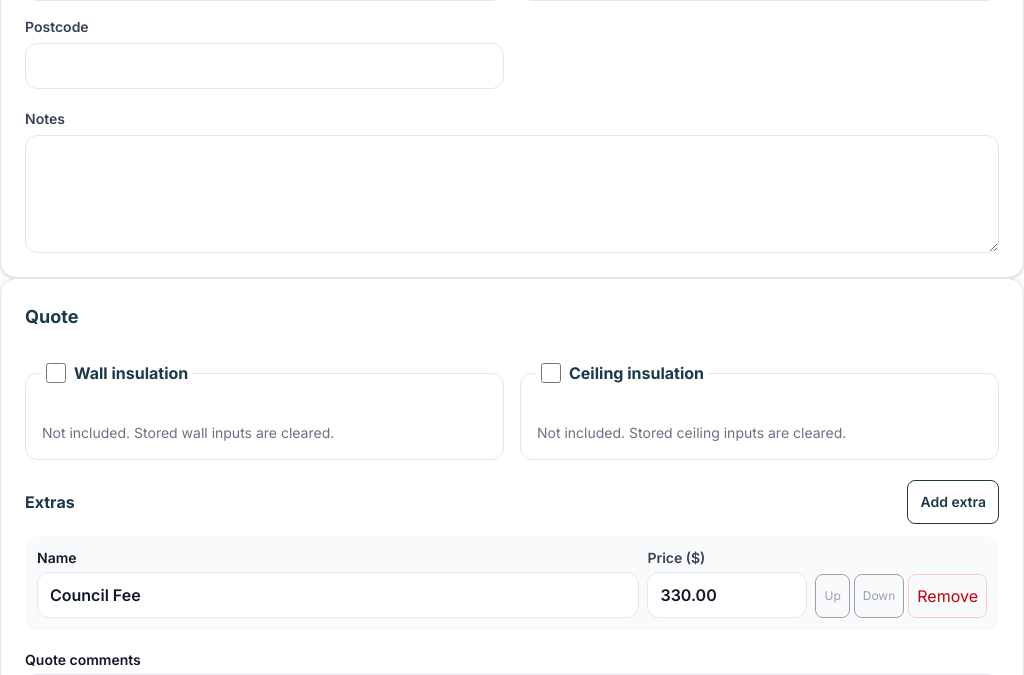
partner draft browser recovery › keeps raw dollar entry stable until blur, then rounds half-up and supports clear and paste
This screenshot has width=1024, height=675.
(page scrolled)
Click the checkbox labelled "Wall insulation".
click(56, 373)  # box x1=46 y1=363 x2=66 y2=383
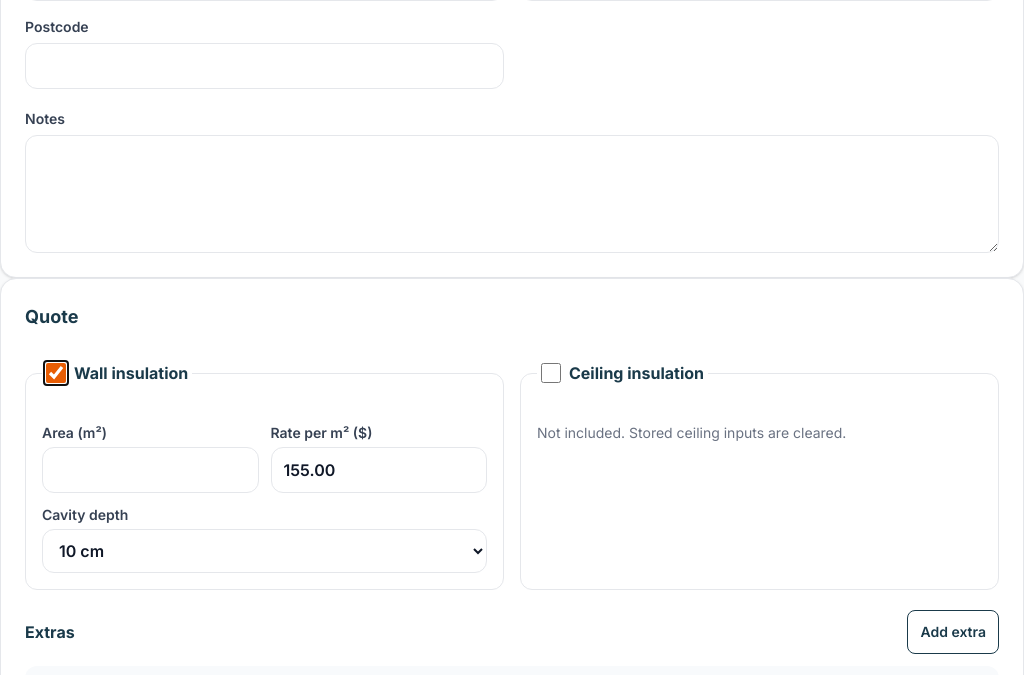
Replace the text in the field labelled "Rate per m² ($)" with "10.075" at {"x": 379, "y": 470}, box x1=270 y1=447 x2=487 y2=493
Click the number field labelled "Area (m²)".
click(150, 470)  # box x1=42 y1=447 x2=258 y2=493
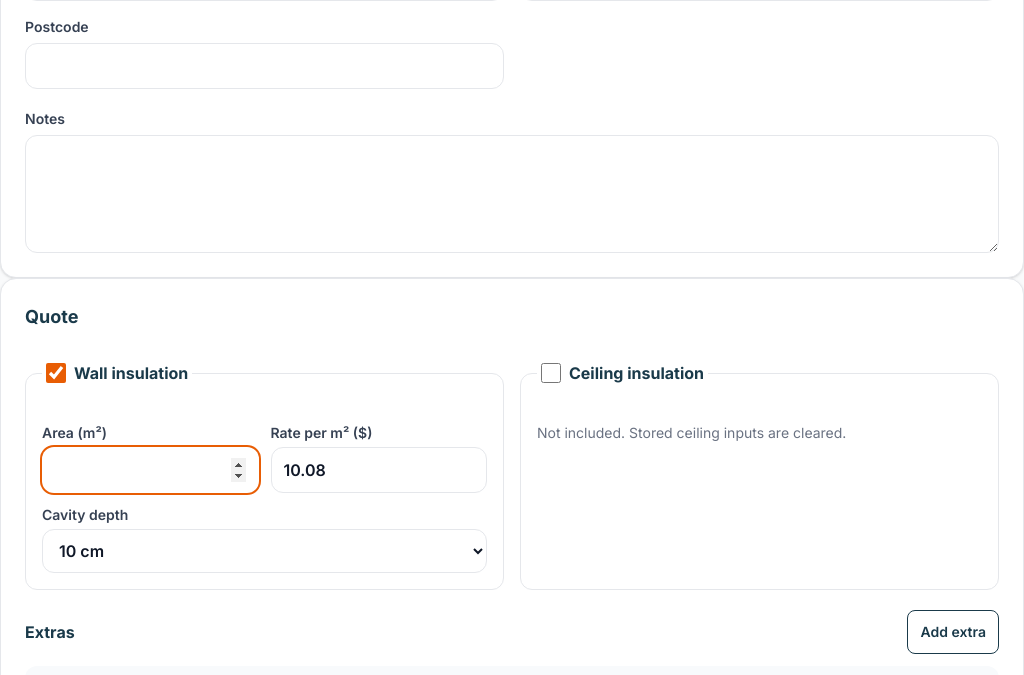
Now the field labelled "Rate per m² ($)" holds "10.08"
Clear the field labelled "Rate per m² ($)" at {"x": 379, "y": 470}, box x1=270 y1=447 x2=487 y2=493
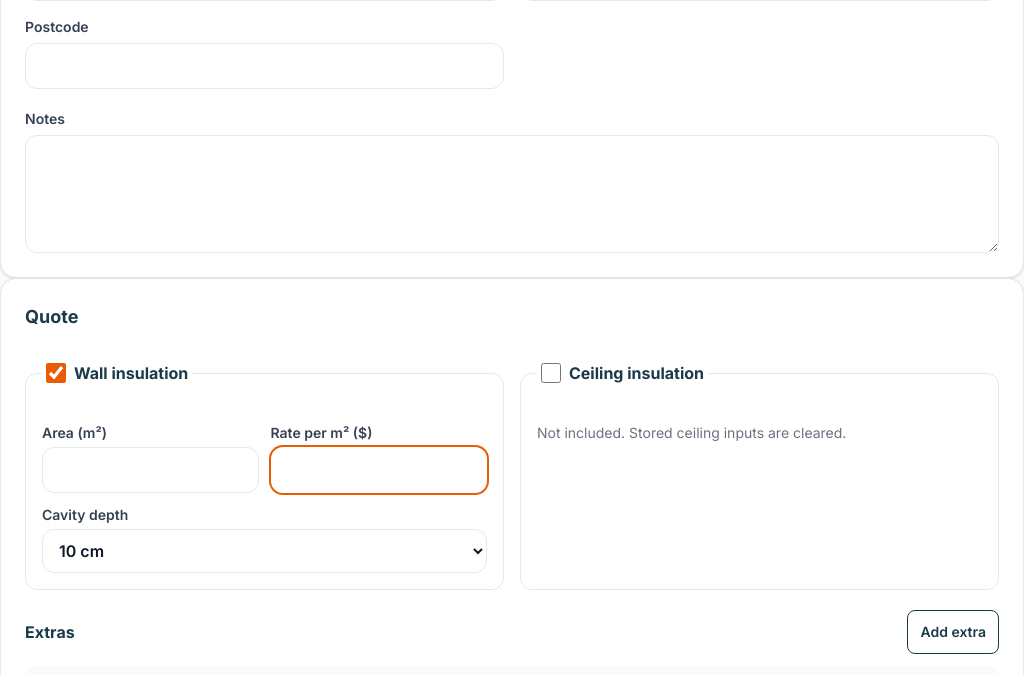
Click the number field labelled "Area (m²)".
click(150, 470)  # box x1=42 y1=447 x2=258 y2=493
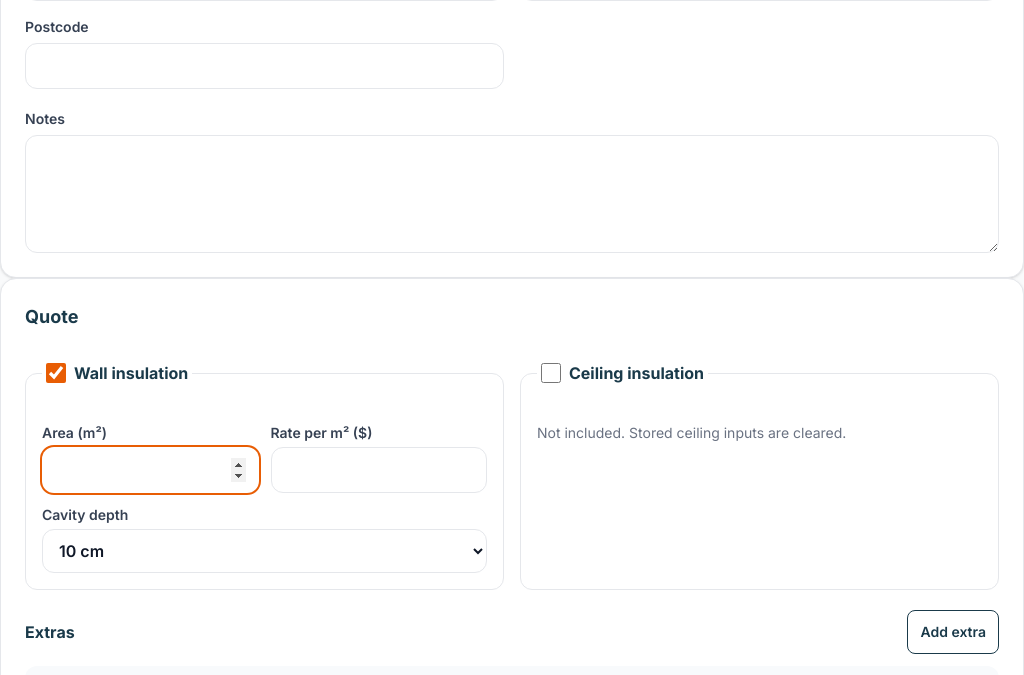
Click the field labelled "Rate per m² ($)".
click(379, 470)  # box x1=270 y1=447 x2=487 y2=493
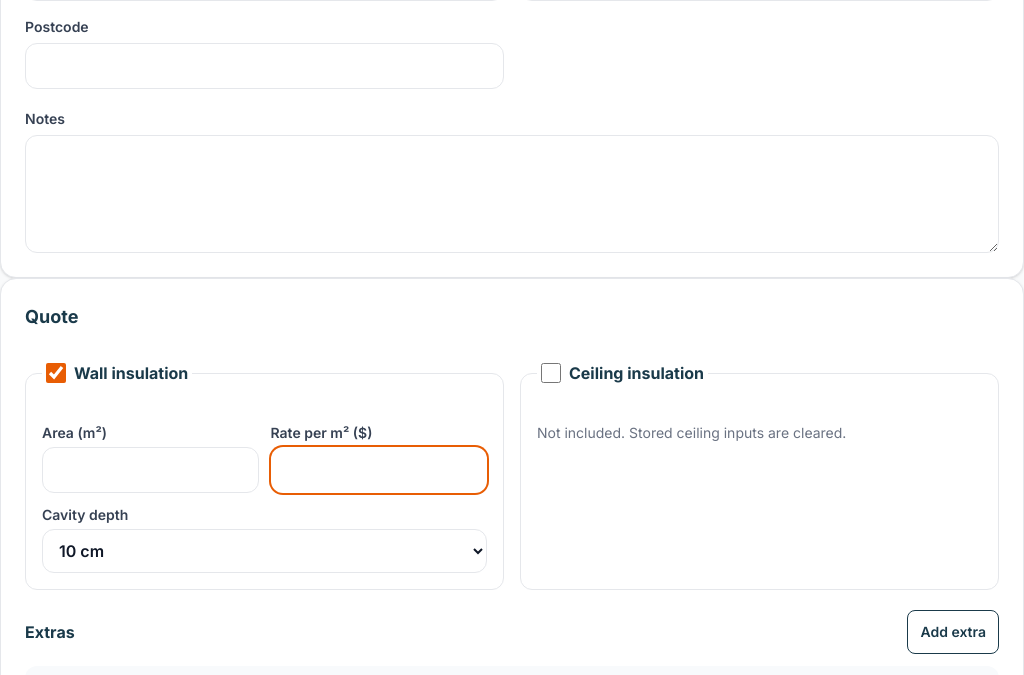
Type keys "123.45"
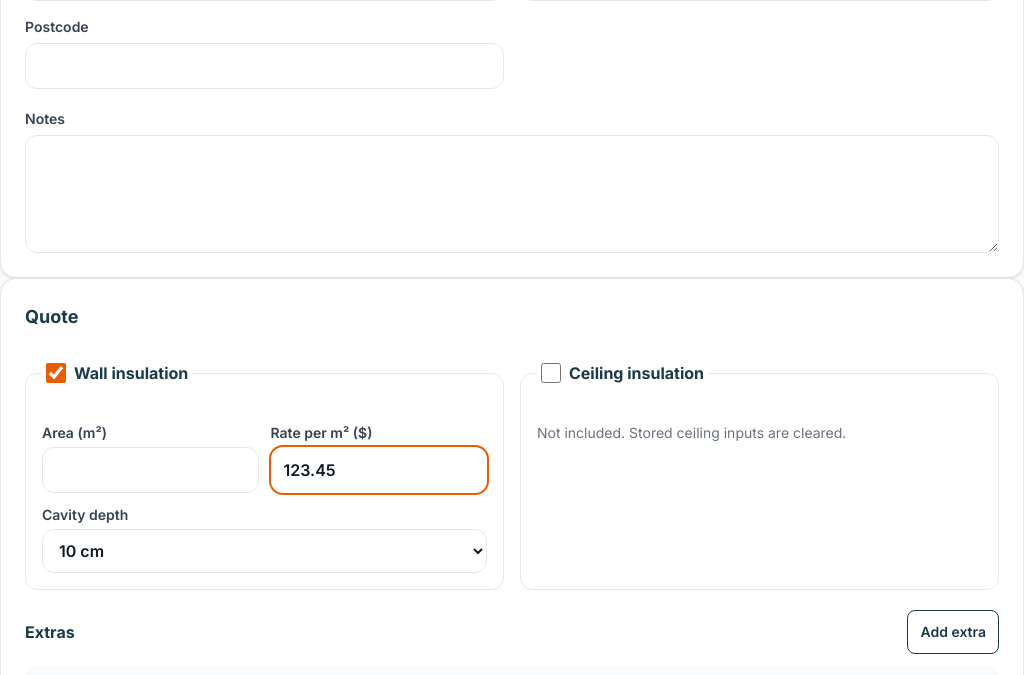
Now the field labelled "Rate per m² ($)" holds "123.45", box x1=270 y1=447 x2=487 y2=493
